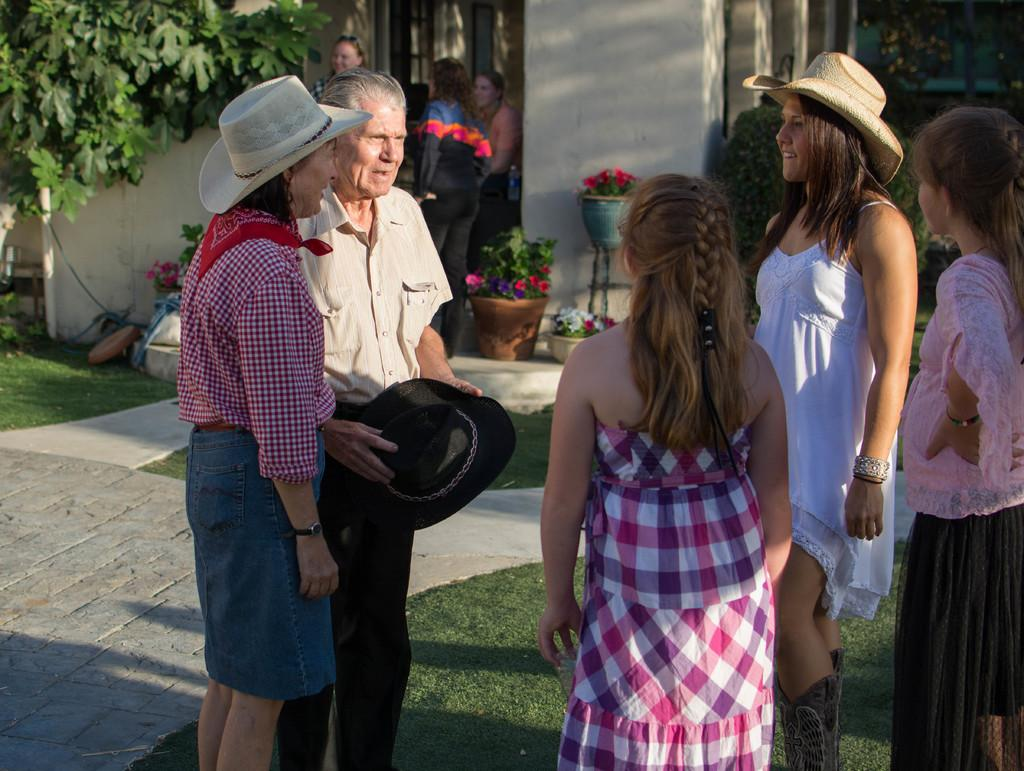Hat: (338, 375, 516, 533), (196, 74, 376, 215), (738, 52, 904, 188)
